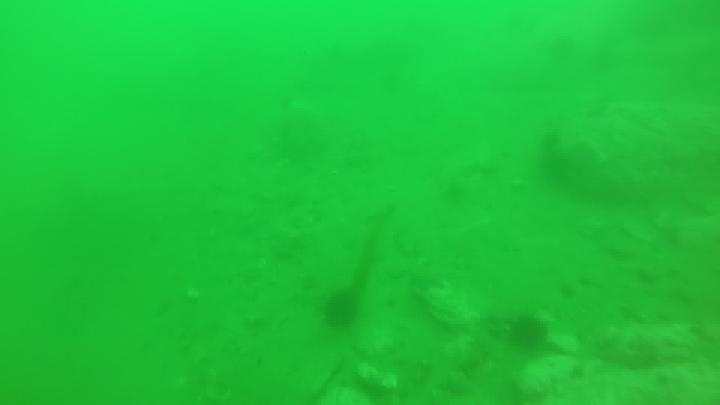echinus: (320, 288, 362, 330), (506, 312, 549, 352)
